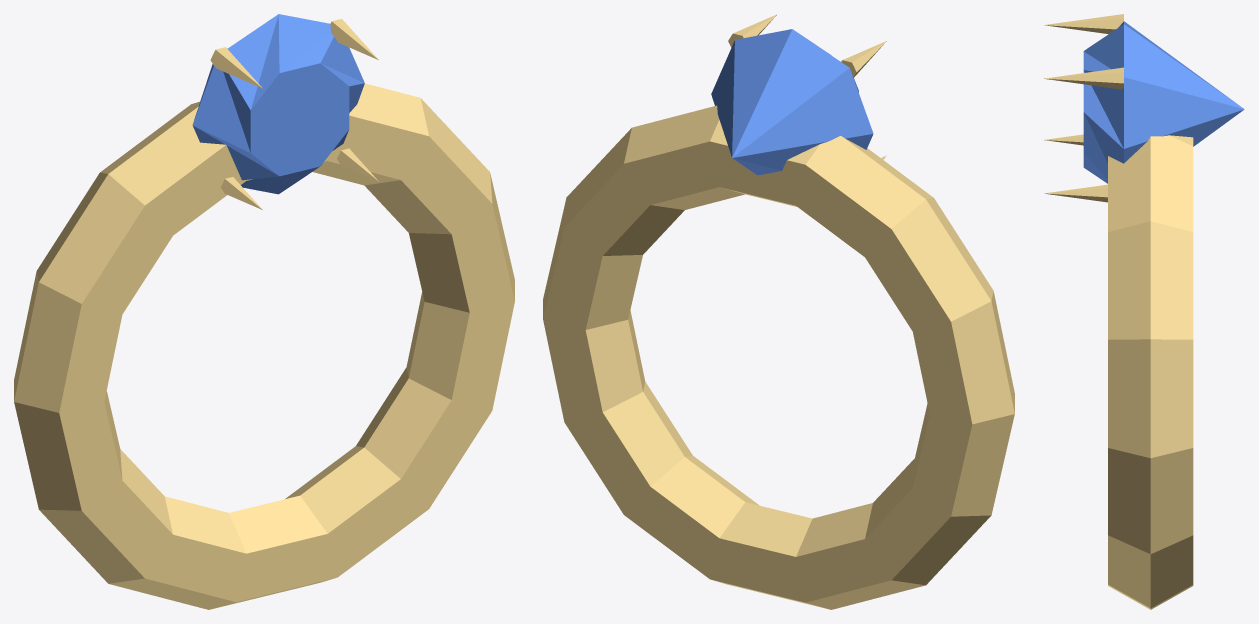
Rendered from cincin_emas.glb.
3 renders of one model, left to right at view 1: azimuth 30°, elevation 25°; view 2: azimuth 150°, elevation 25°; view 3: azimuth 270°, elevation 25°, orthographic. The views are drawn at different scales.
Visible parts, largest first — view 1: Ring_Band, Gem, Prongs; view 2: Ring_Band, Gem, Prongs; view 3: Ring_Band, Gem, Prongs.
Boxes of the visible parts, <box> form: Ring_Band: <box>14,83,514,609</box>; Gem: <box>192,14,364,194</box>; Prongs: <box>210,19,378,209</box>; Ring_Band: <box>543,105,1014,609</box>; Gem: <box>711,29,873,175</box>; Prongs: <box>728,14,886,159</box>; Ring_Band: <box>1108,135,1193,609</box>; Gem: <box>1083,21,1244,183</box>; Prongs: <box>1043,14,1123,202</box>.
Size of the model in its own units: 2.44 by 2.76 by 0.9.
